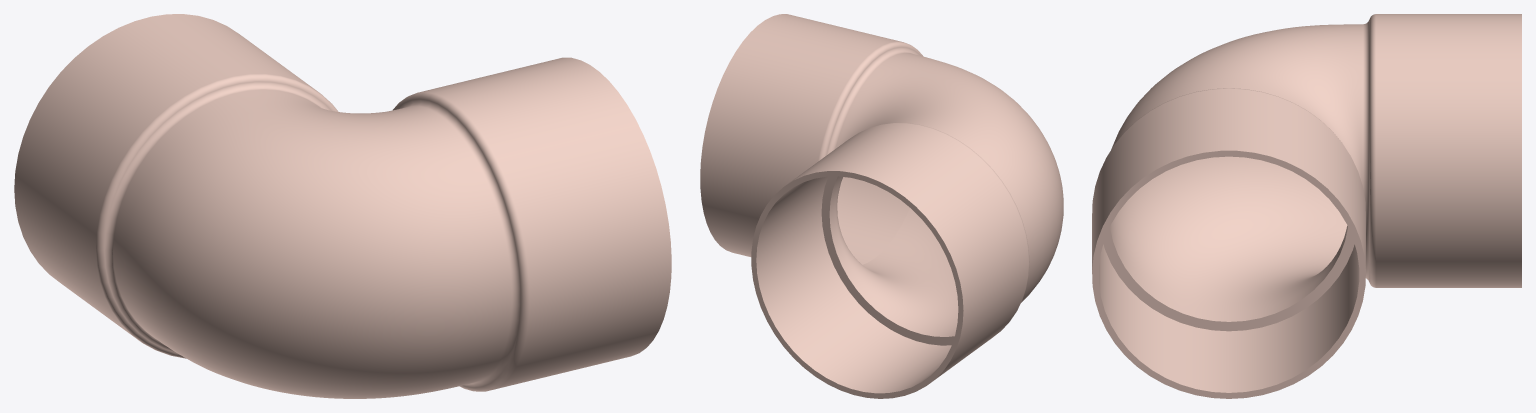
Rendered from Codo Cobre 2.1_2_ Dimaflow v1.obj.
3 views of the same model, side by side, from view 1: azimuth 30°, elevation 25°; view 2: azimuth 150°, elevation 25°; view 3: azimuth 270°, elevation 25° (orthographic). The views are drawn at different scales.
Visible parts, largest first — view 1: Cuerpo3; view 2: Cuerpo3; view 3: Cuerpo3.
Part boxes in pixels (x1=…): Cuerpo3: x1=14, y1=14, x2=671, y2=398; Cuerpo3: x1=700, y1=14, x2=1063, y2=398; Cuerpo3: x1=1092, y1=14, x2=1521, y2=398.
Bounding box in the file's own units: 110 × 70.15 × 110.
